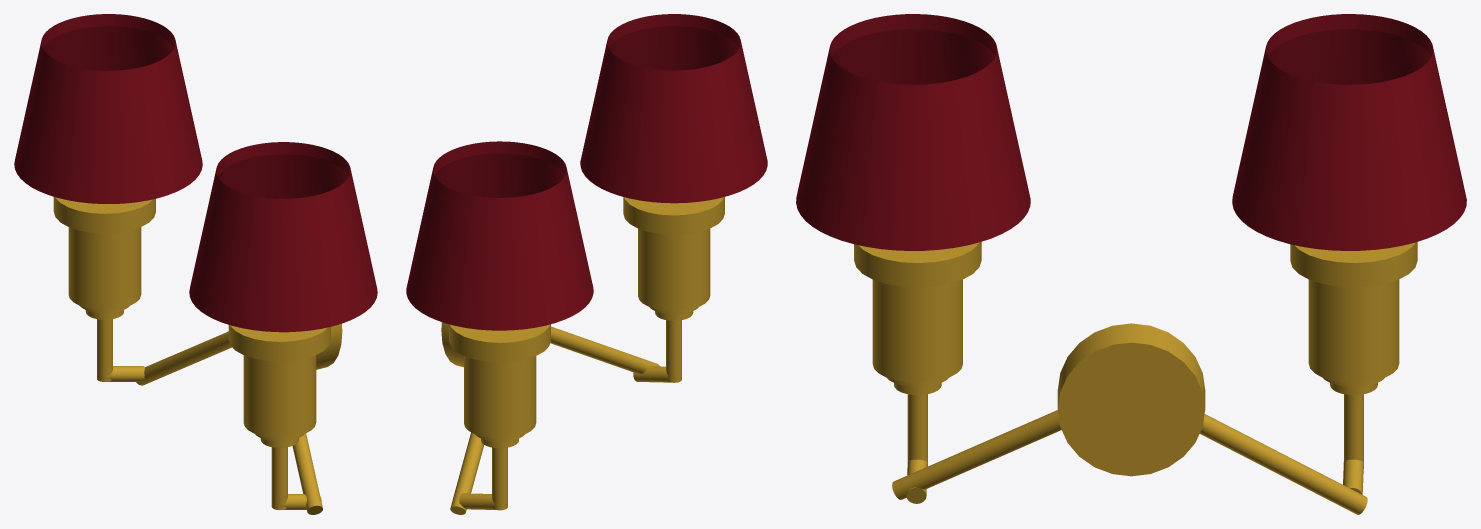
File: Wandlamp.fbx
3 views of the same model, side by side, from view 1: azimuth 30°, elevation 25°; view 2: azimuth 150°, elevation 25°; view 3: azimuth 270°, elevation 25° (orthographic). The views are drawn at different scales.
Visible parts, largest first — view 1: Model; view 2: Model; view 3: Model.
Boxes of the visible parts, x1,y1,x2,y2 form: Model: (14, 14, 377, 514); Model: (406, 14, 767, 514); Model: (796, 14, 1466, 514).
Bounding box in the file's own units: 170 × 290 × 400.
